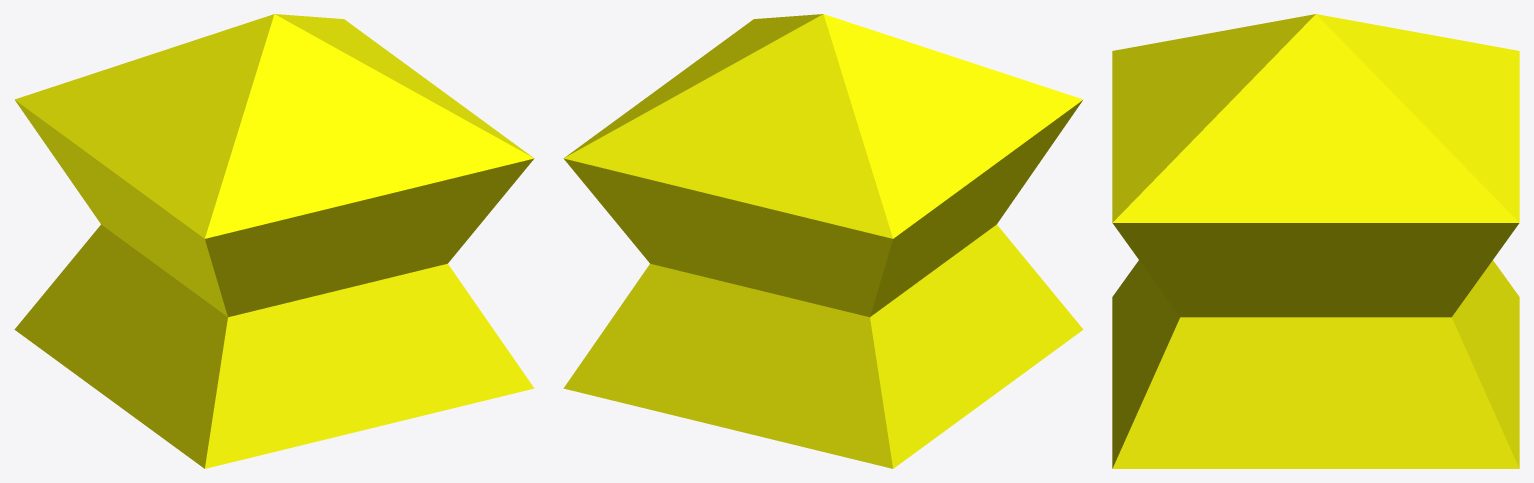
The model's file is concave.fbx.
The picture shows the model from 3 angles, left to right: view 1: azimuth 30°, elevation 25°; view 2: azimuth 150°, elevation 25°; view 3: azimuth 270°, elevation 25°; orthographic projection. The views are drawn at different scales.
Parts seen in each view (by area): view 1: Cube; view 2: Cube; view 3: Cube.
Part boxes in pixels (left/top/right/bottom): Cube: left=14, top=14, right=534, bottom=468; Cube: left=563, top=14, right=1083, bottom=468; Cube: left=1112, top=14, right=1519, bottom=468.
Bounding box in the file's own units: 3 × 3 × 3.
1 material, 1 textured.
